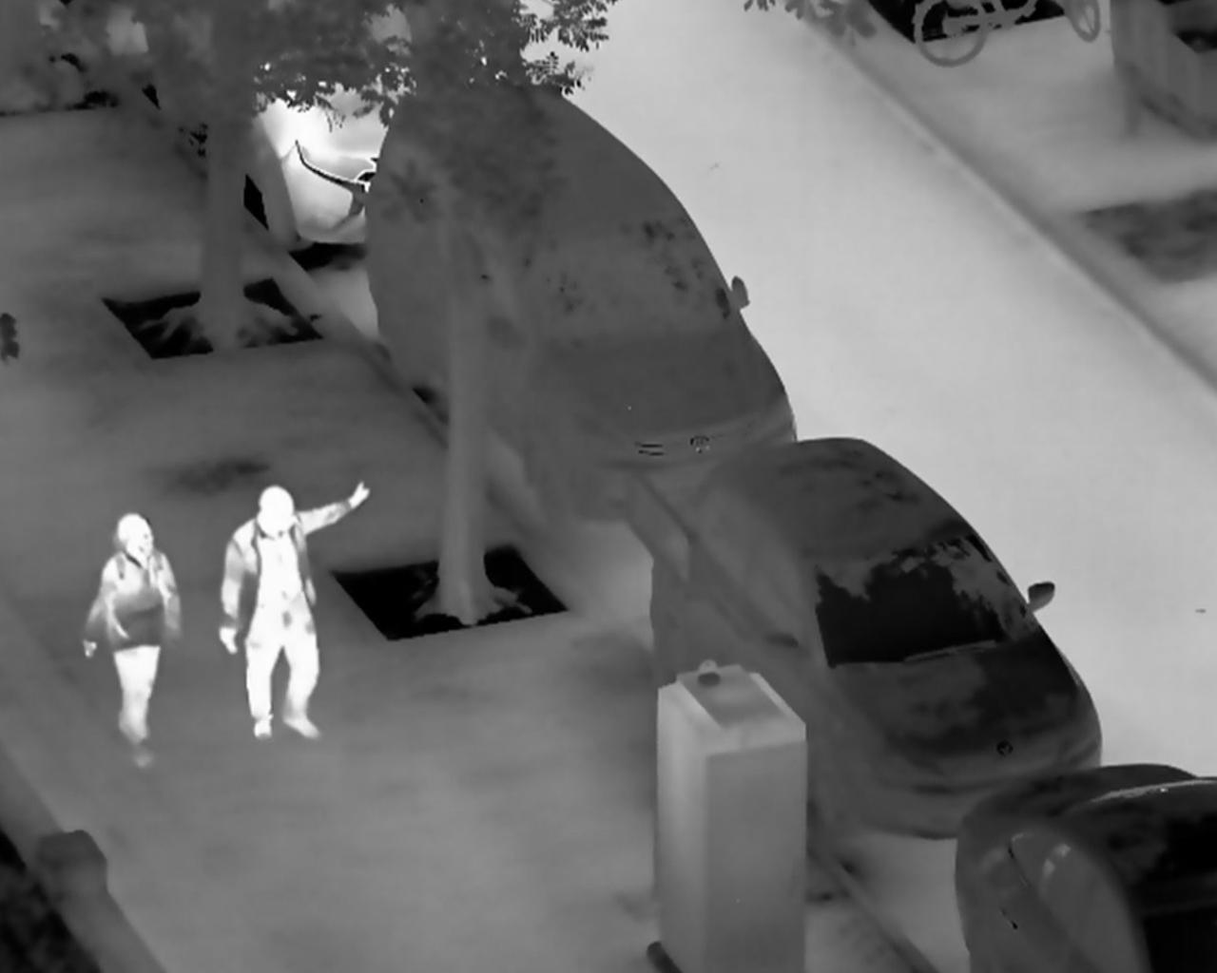person: (215, 479, 377, 746), (80, 510, 179, 771)
